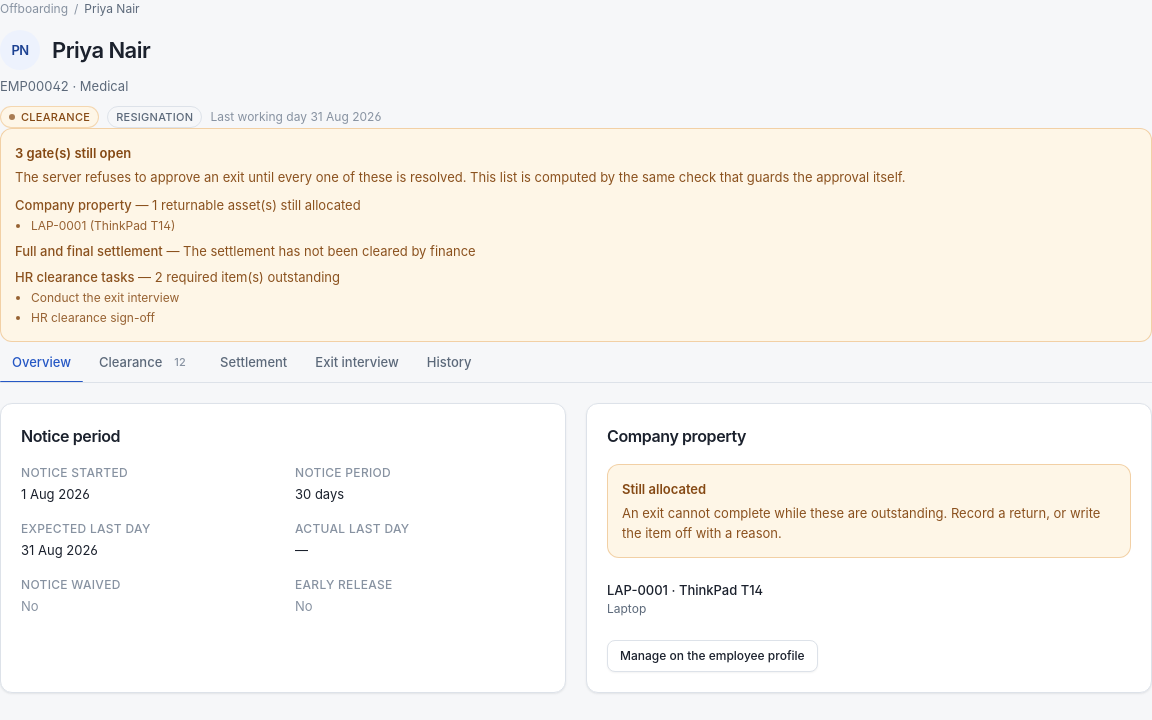
The clearance checklist › offers no completion control to a role that cannot edit
Click the tab "Clearance 12": (146, 362) [87,342,204,382]
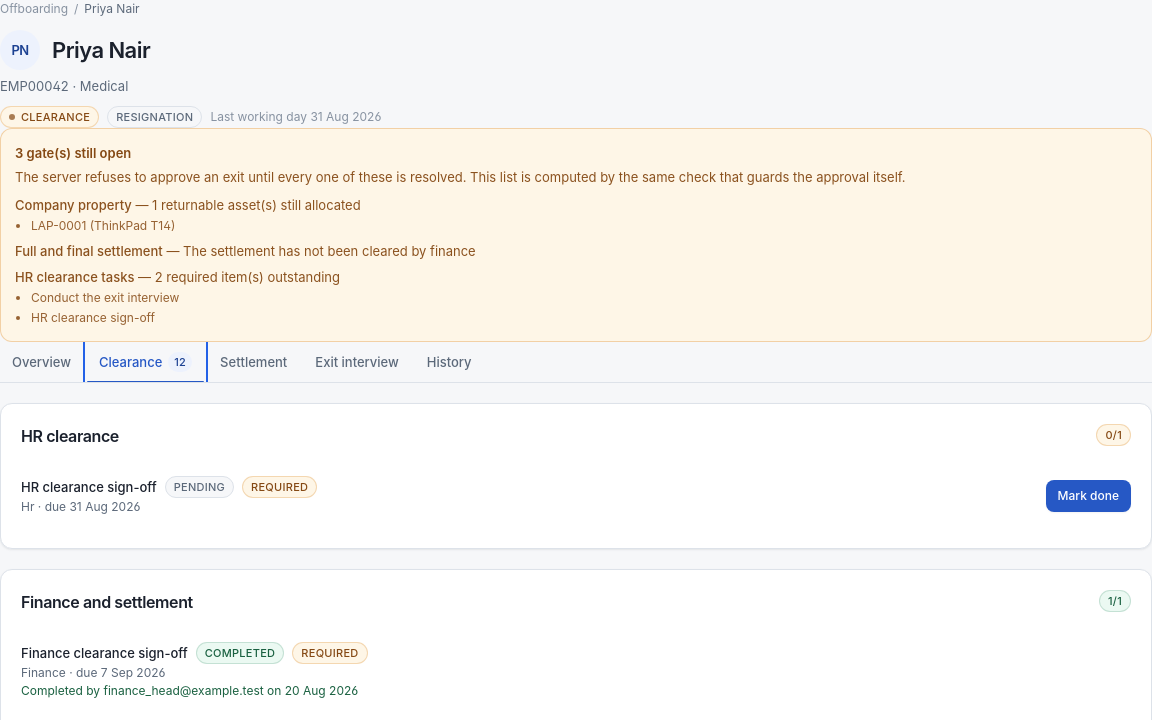
Result: the text "waive" is gone
